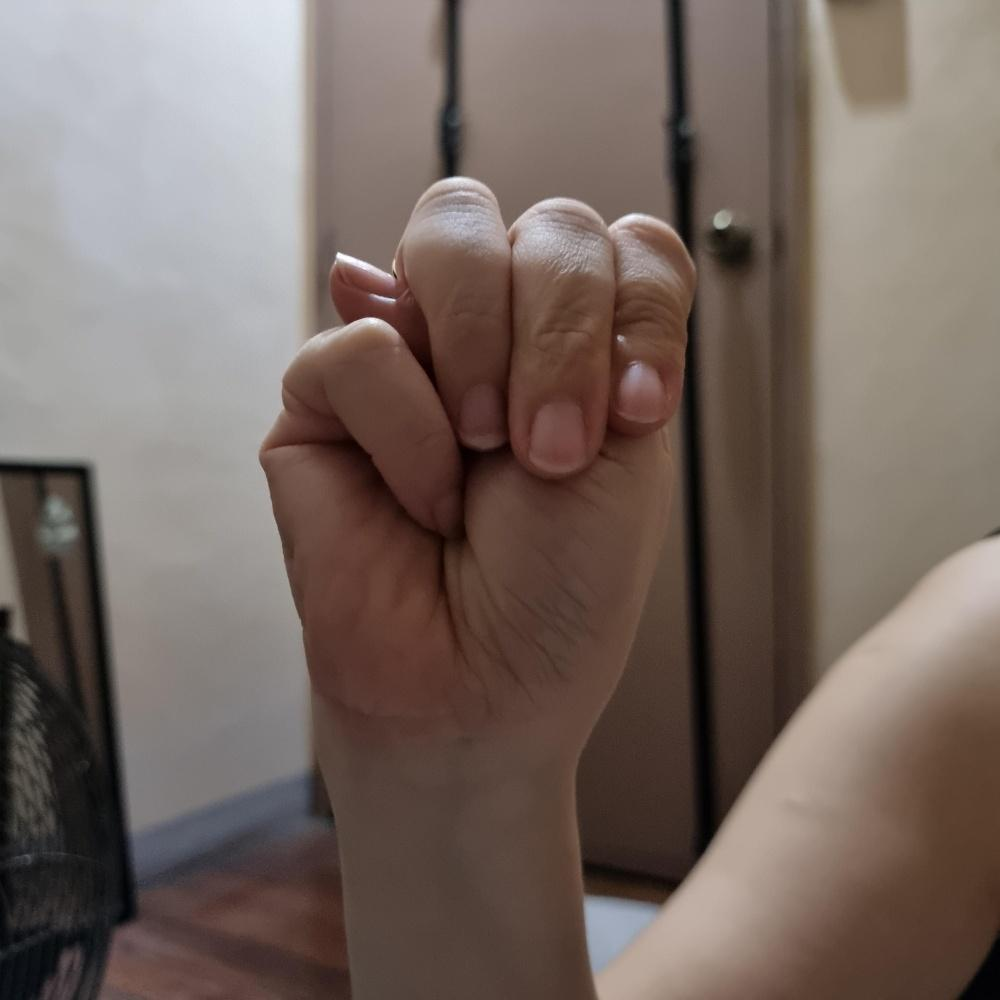m: (251, 166, 699, 746)
